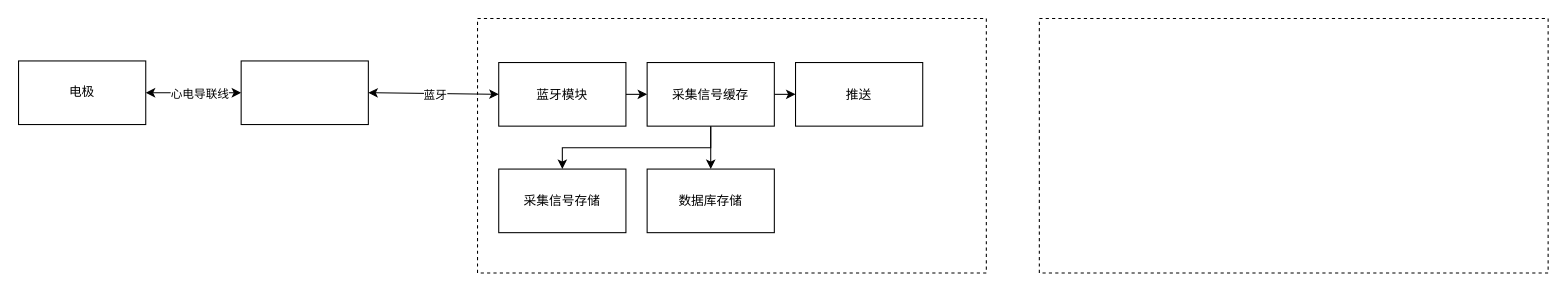
The diagram is 1567 pixels wide and 291 high, and some of its shapes have lost their labels. The box of each missing label's shape, as (x1, y1, x2, y2) in pixels:
主机 肌电图仪嵌入式软件: (240, 60, 368, 125)
电脑——肌电信号采集软件前端: (1038, 17, 1548, 273)
电脑——肌电信号采集软件后端: (476, 17, 986, 273)
